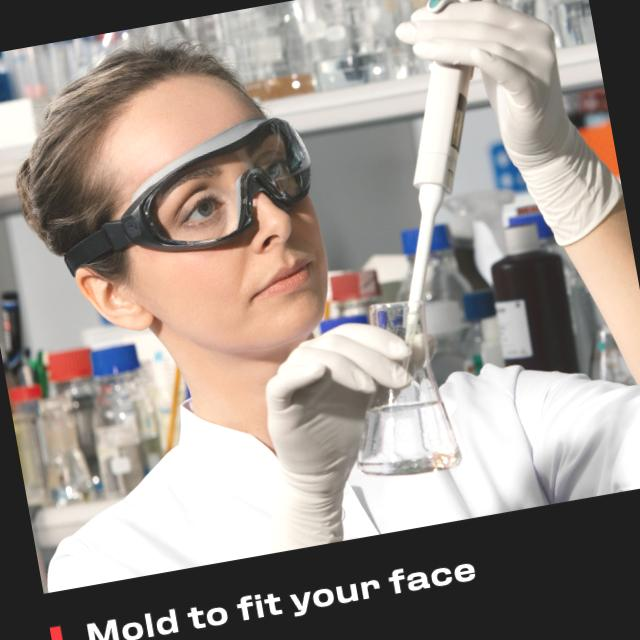goggles: (96, 100, 341, 278)
no-helmet: (0, 18, 292, 231)
no-vest: (25, 327, 640, 588)
